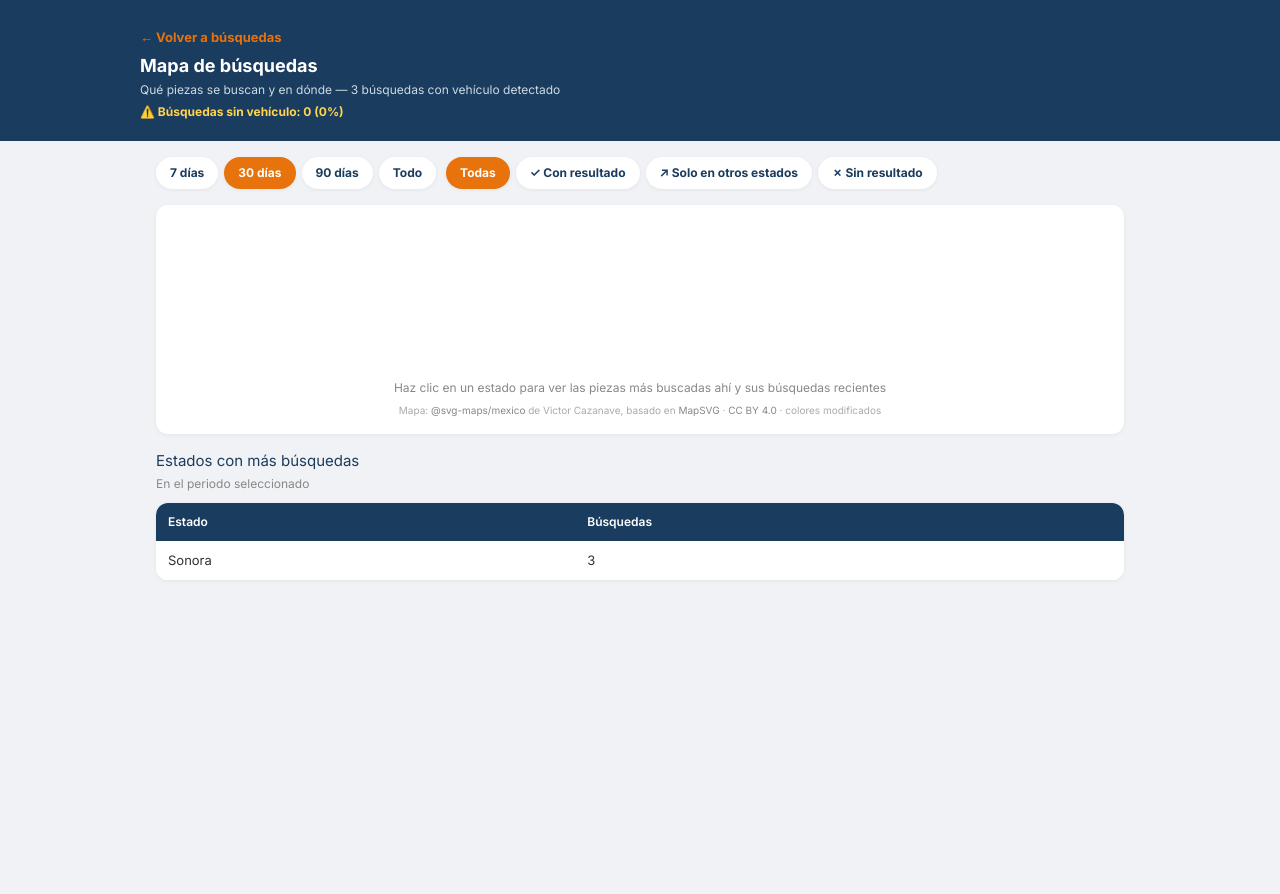
Scenario: mapa de búsquedas: fechas por estado › la tabla del estado muestra "Última vez" (la más nueva de cada fila) y marca lo de las últimas 24 h
The image size is (1280, 894).
Click the cell "Sonora": [190, 560] box x1=156 y1=540 x2=575 y2=580
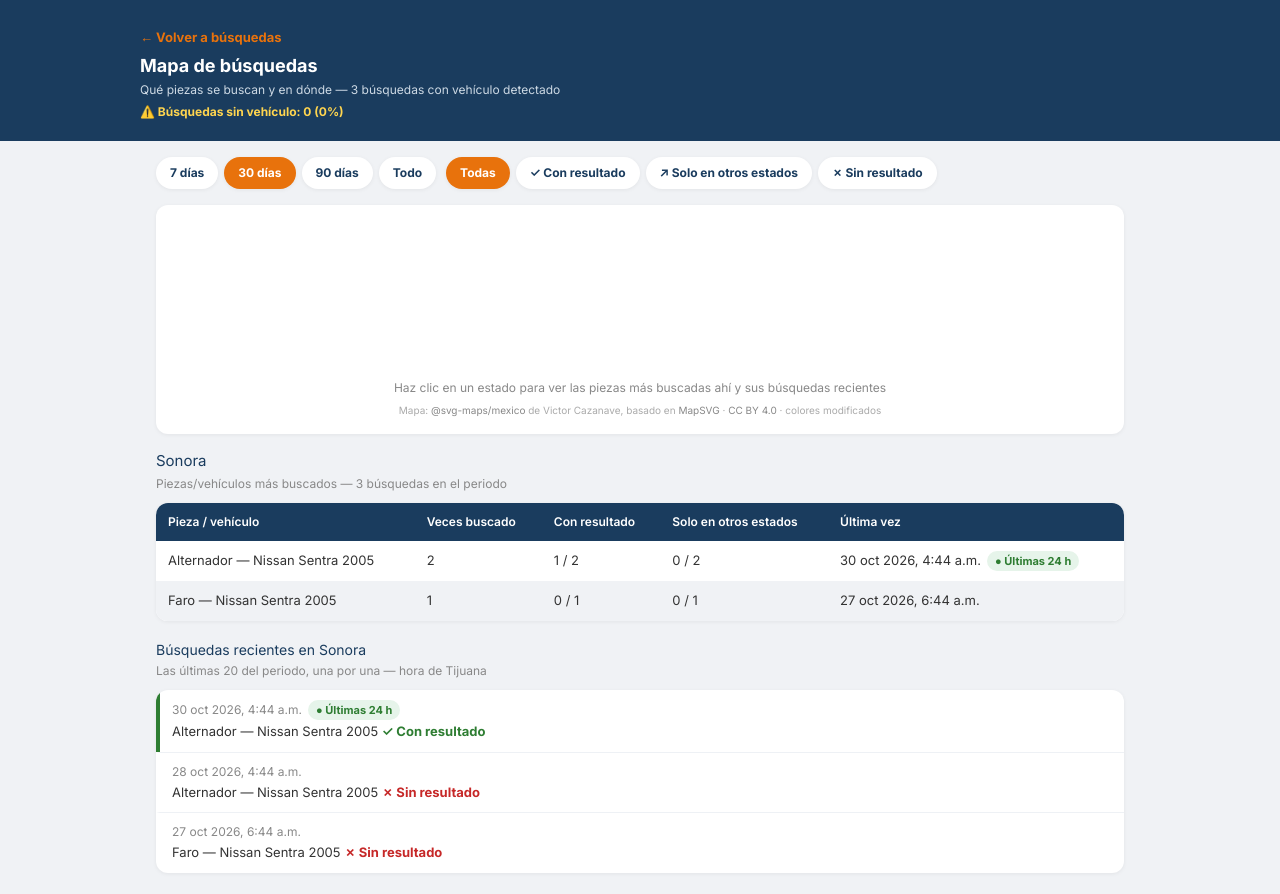
Expected: the text "● Últimas 24 h" below "Última vez" is shown, x1=995 y1=554 x2=1071 y2=568
